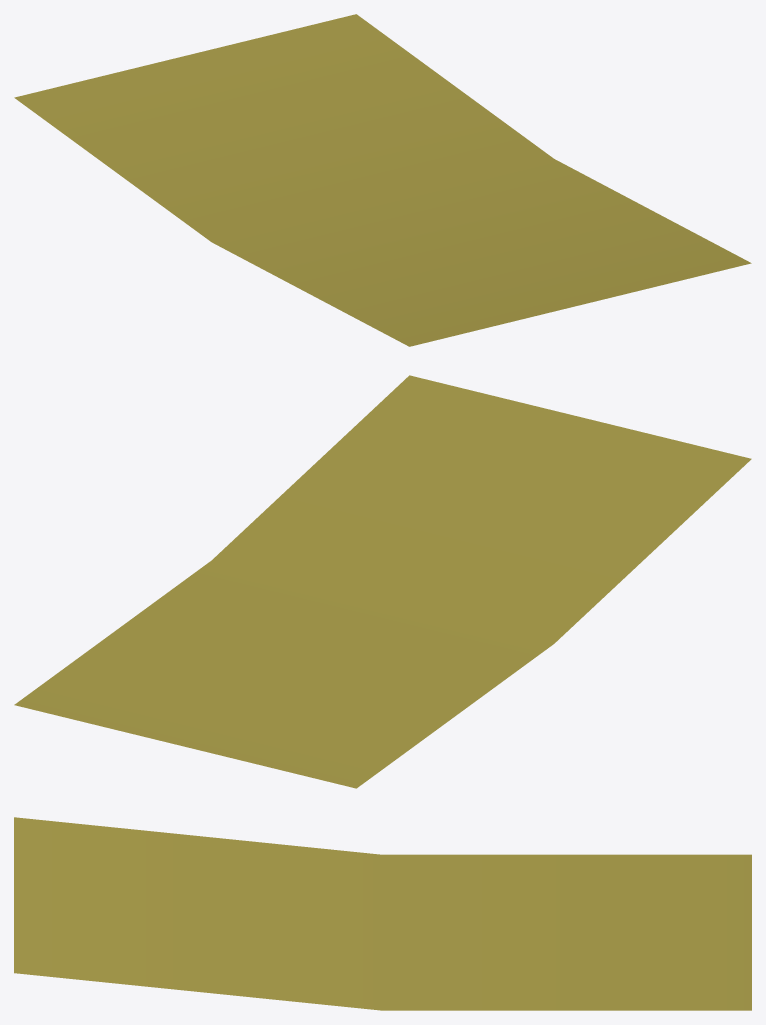
File: cheese.fbx
3 renders of one model, top to bottom at view 1: azimuth 30°, elevation 25°; view 2: azimuth 150°, elevation 25°; view 3: azimuth 270°, elevation 25°, orthographic. The views are drawn at different scales.
Visible parts, largest first — view 1: pPlane1; view 2: pPlane1; view 3: pPlane1.
Boxes of the visible parts, x1,y1,x2,y2 form: pPlane1: (14, 14, 751, 346); pPlane1: (14, 375, 751, 788); pPlane1: (14, 817, 751, 1010).
Size of the model in its own units: 5 by 0.5616 by 10.
